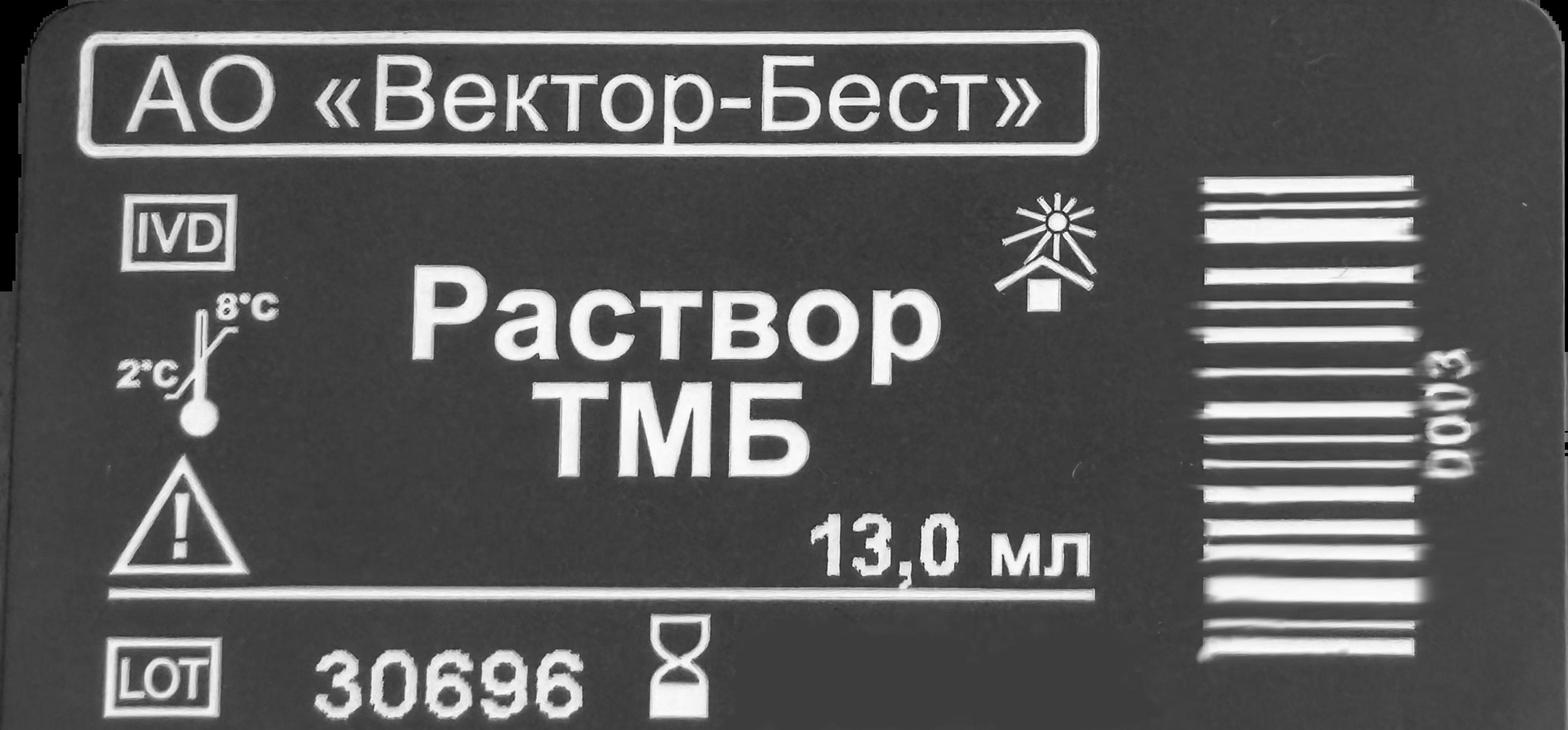something: (1195, 166, 1425, 661), (116, 287, 278, 444), (105, 453, 252, 578), (991, 184, 1100, 319), (103, 630, 228, 723), (118, 188, 241, 273), (647, 608, 716, 723)
text: (408, 257, 947, 484), (118, 38, 1047, 152), (810, 501, 1102, 587), (310, 647, 593, 721), (1426, 344, 1480, 483)
